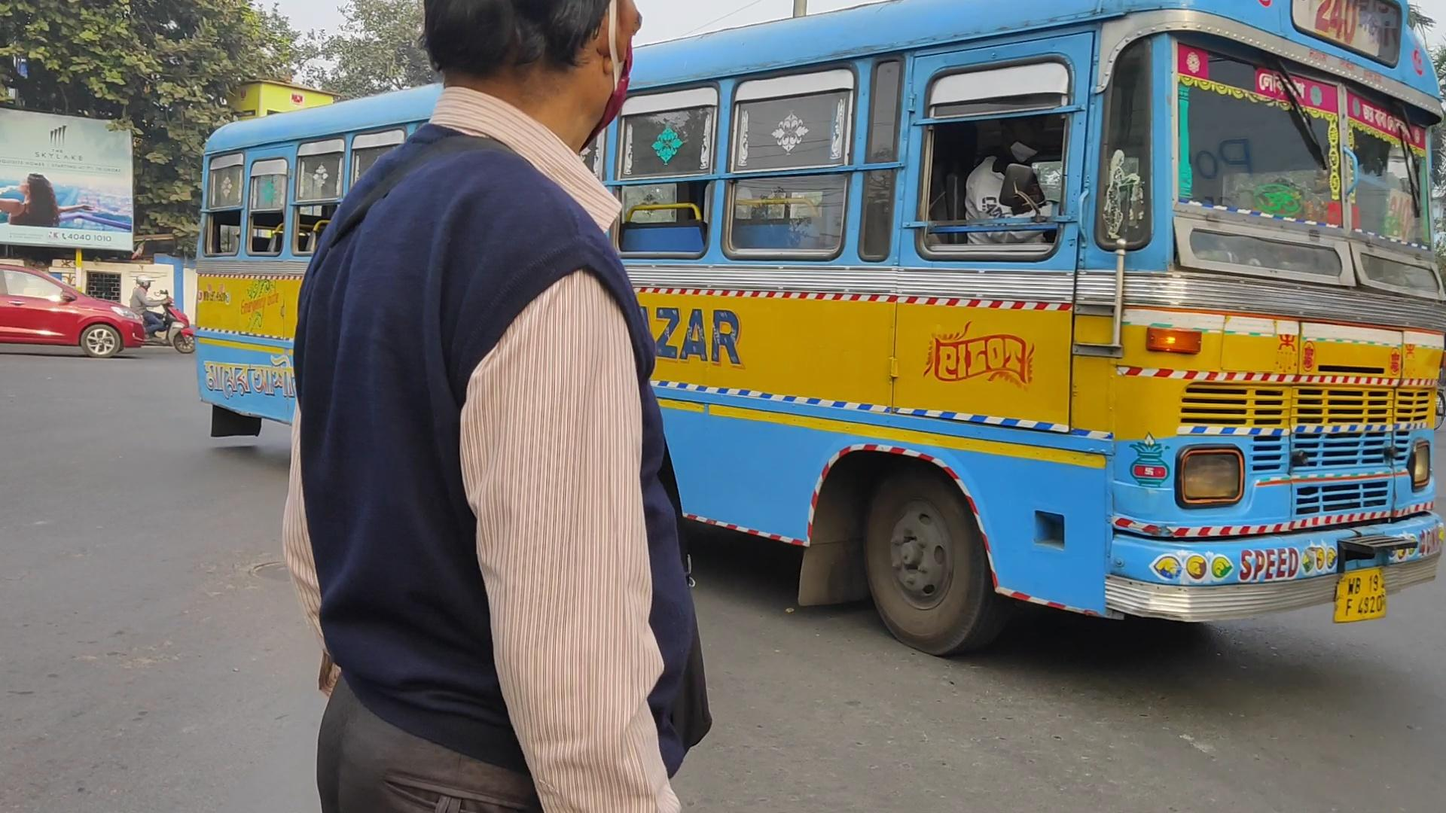Bus: (193, 2, 1446, 656)
bike: (107, 276, 198, 355)
car: (1, 263, 148, 359)
